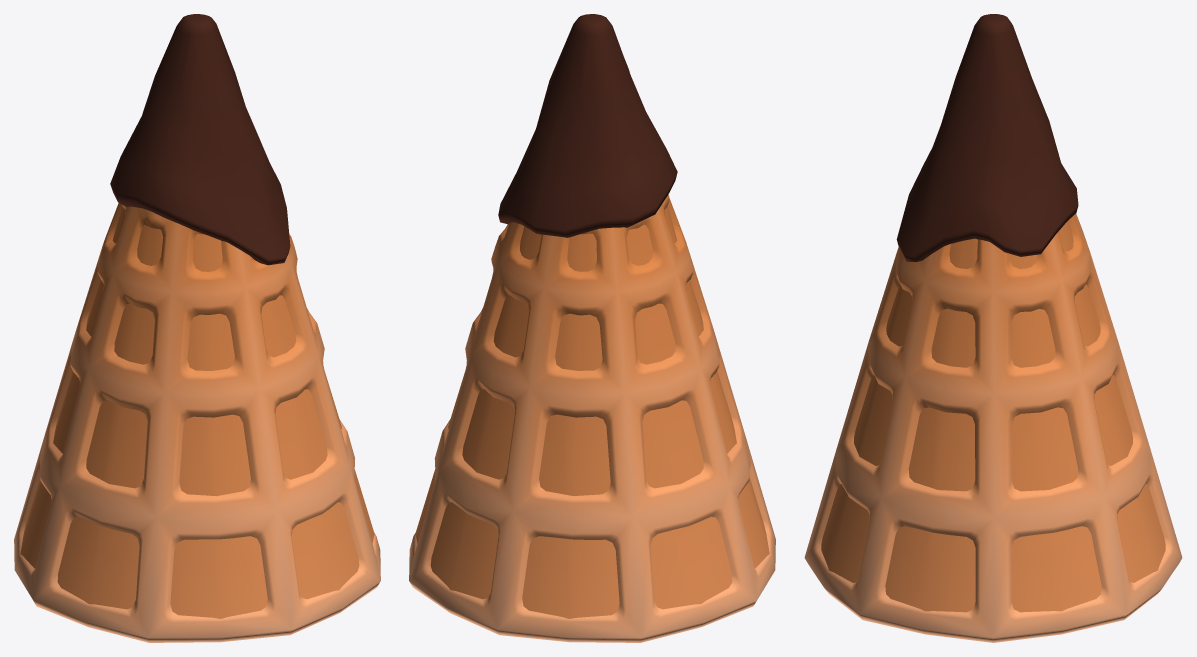
File: IceCream_01.glb
3 views of the same model, side by side, from view 1: azimuth 30°, elevation 25°; view 2: azimuth 150°, elevation 25°; view 3: azimuth 270°, elevation 25° (orthographic).
Visible parts, largest first — view 1: IceCream_01; view 2: IceCream_01; view 3: IceCream_01.
Part boxes in pixels (x1,y1,x2,y2): IceCream_01: [14, 14, 380, 642]; IceCream_01: [409, 14, 775, 642]; IceCream_01: [804, 14, 1182, 642].
Bounding box in the file's own units: 8.54 × 13.64 × 8.54.
1 material, 1 textured.
